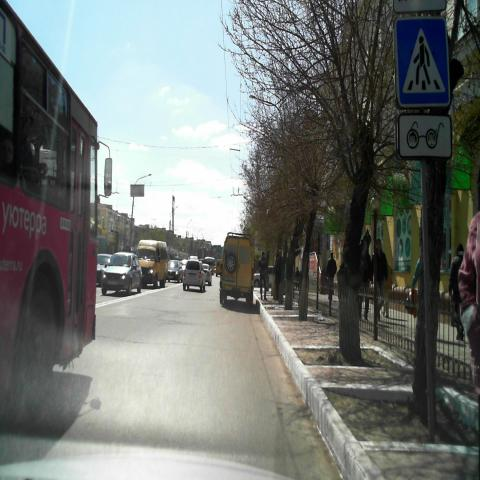8_15: (395, 112, 453, 160)
